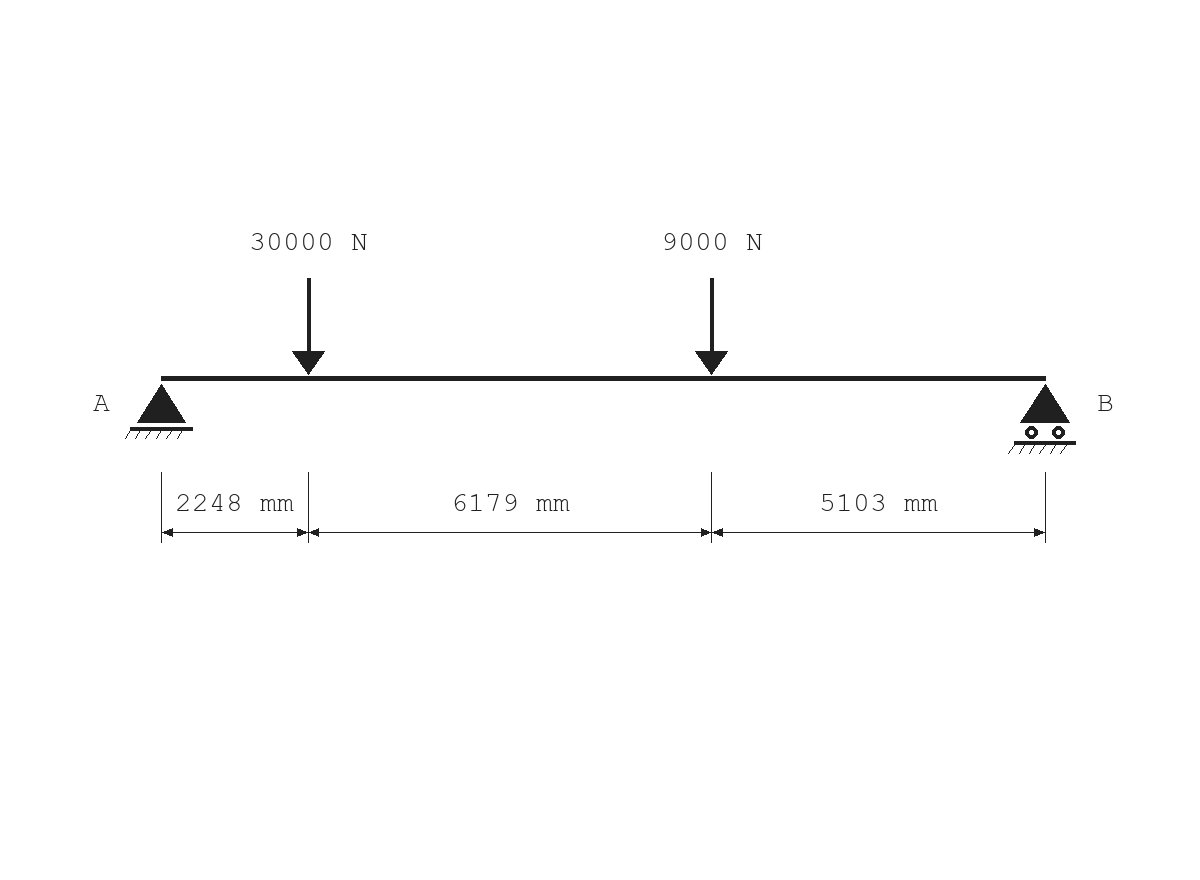pin_support: (125, 384, 193, 439)
point_load: (292, 278, 325, 375), (695, 278, 728, 375)
roller_support: (1008, 384, 1076, 454)
